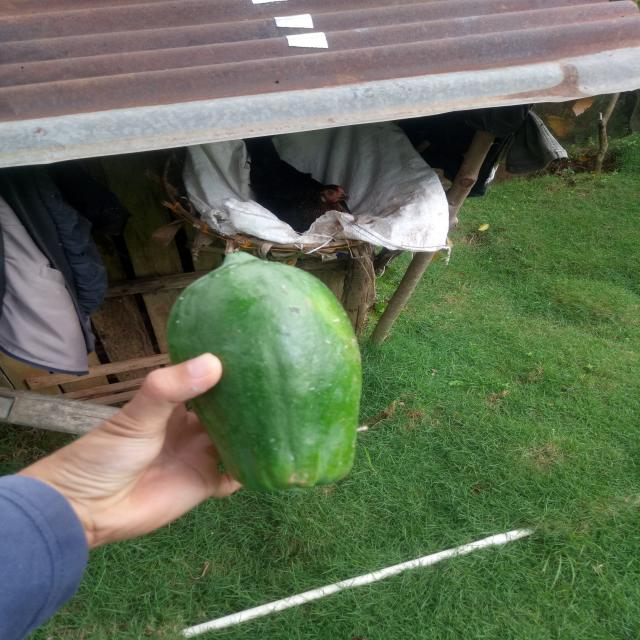Pepaya unrippen: (153, 245, 378, 496)
